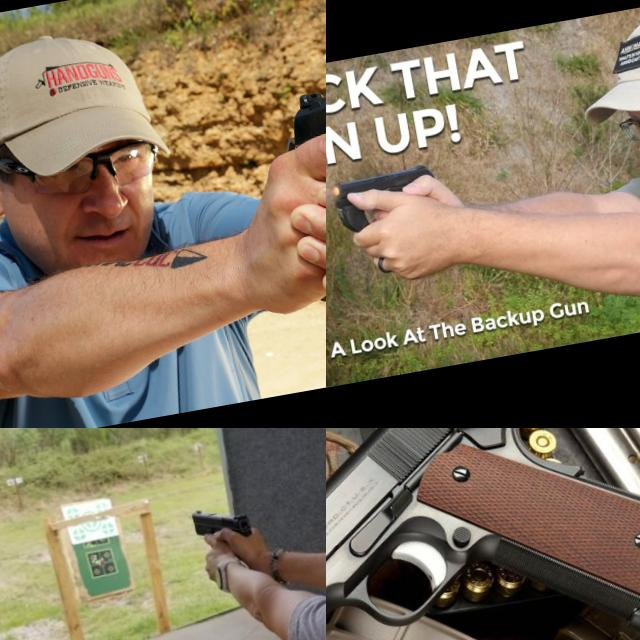handgun: (326, 428, 640, 640), (271, 38, 326, 206), (326, 159, 442, 219), (188, 498, 254, 546)
